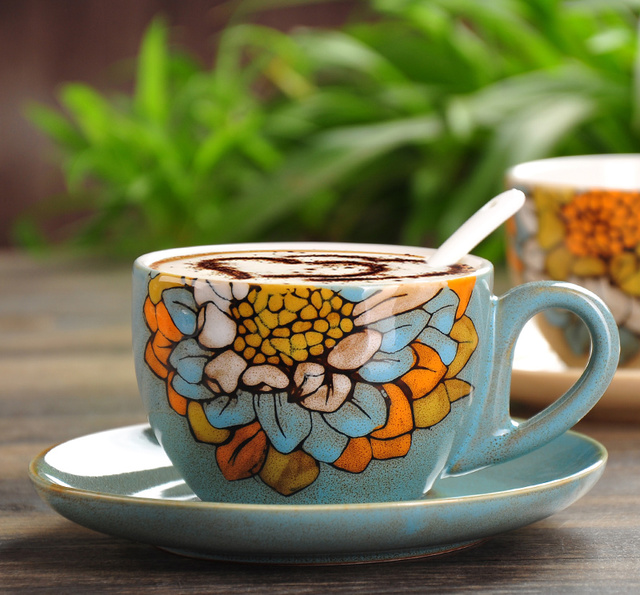cup: (128, 241, 620, 511)
